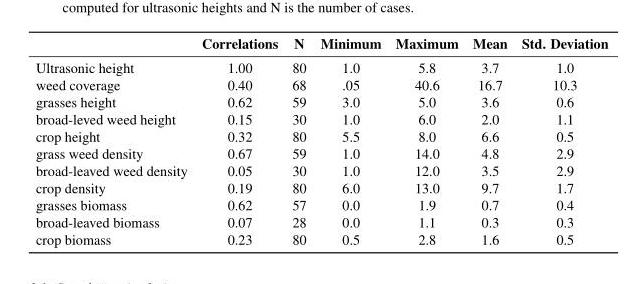table: (35, 34, 607, 247)
table column: (35, 34, 193, 247), (513, 34, 607, 247), (193, 34, 284, 247), (387, 34, 464, 247), (312, 34, 387, 247), (464, 34, 513, 247), (284, 34, 312, 247)
table column header: (35, 34, 607, 55)
table row: (35, 34, 607, 55), (35, 55, 607, 76), (35, 161, 607, 179), (35, 76, 607, 93), (35, 93, 607, 110), (35, 110, 607, 127), (35, 127, 607, 144), (35, 144, 607, 161), (35, 179, 607, 196), (35, 196, 607, 213), (35, 213, 607, 230), (35, 230, 607, 247)
